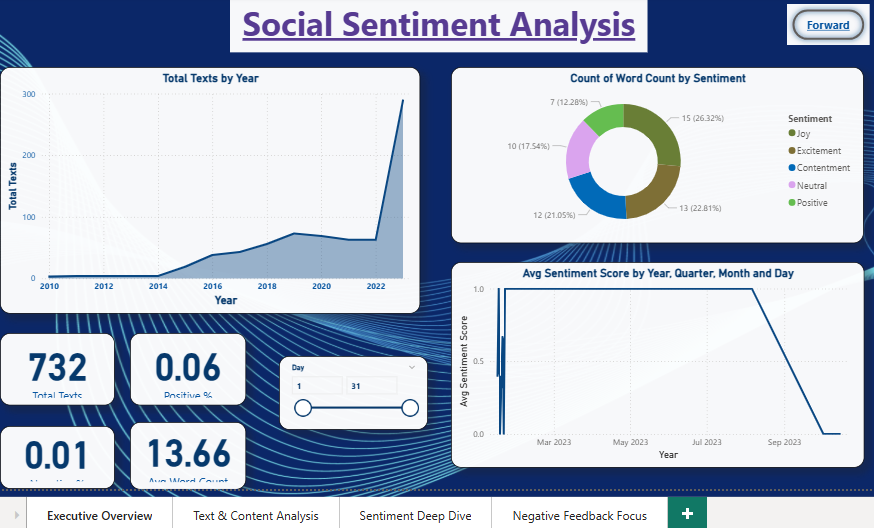

What the dashboard file says about the page in this screenshot:
{"tool":"powerbi","page":{"name":"Executive Overview","canvas":[1280,720],"ordinal":0},"visuals":[{"type":"textbox","box":[336,0,611.4,80.6],"z":0},{"type":"card","fields":{"Values":["cleaned_sentiment.Total Texts"]},"box":[0,475.6,178.5,115.6],"z":1000},{"type":"card","fields":{"Values":["cleaned_sentiment.Positive %"]},"box":[190.2,475.6,172.7,115.6],"z":2000},{"type":"card","fields":{"Values":["cleaned_sentiment.Negative %"]},"box":[0,597.1,178.5,122.9],"z":3000},{"type":"card","fields":{"Values":["cleaned_sentiment.Avg Word Count"]},"box":[190.2,598.5,172.7,121.5],"z":4000},{"type":"donutChart","fields":{"Category":["cleaned_sentiment.Sentiment"],"Y":["Count(cleaned_sentiment.Word Count)"]},"box":[660,102.4,604.4,257.6],"z":5000},{"type":"lineChart","fields":{"Y":["cleaned_sentiment.Avg Sentiment Score"],"Category":["cleaned_sentiment.Timestamp.Variation.Date Hierarchy.Year","cleaned_sentiment.Timestamp.Variation.Date Hierarchy.Quarter","cleaned_sentiment.Timestamp.Variation.Date Hierarchy.Month","cleaned_sentiment.Timestamp.Variation.Date Hierarchy.Day"]},"box":[660.2,388,604.7,300.7],"z":6000},{"type":"areaChart","fields":{"Category":["cleaned_sentiment.Timestamp.Variation.Date Hierarchy.Year","cleaned_sentiment.Timestamp.Variation.Date Hierarchy.Month","cleaned_sentiment.Timestamp.Variation.Date Hierarchy.Day"],"Y":["cleaned_sentiment.Total Texts"]},"box":[0,102.4,614.6,361.5],"z":7000},{"type":"slicer","fields":{"Values":["cleaned_sentiment.Day"]},"box":[408.2,525.8,218.4,107.5],"z":8000},{"type":"actionButton","box":[1152.3,10.1,120.9,60.5],"z":9000}]}

Visuals, with their boxes on the page's 1280x720 design canvas (x1, y1, x2, y2). These are canvas units, not pixel positions in the 874x528 screenshot, which may show the page scaled, cropped or inside an application window:
textbox: detection(336, 0, 947, 81)
card - cleaned_sentiment.Total Texts: detection(0, 476, 178, 591)
card - cleaned_sentiment.Positive %: detection(190, 476, 363, 591)
card - cleaned_sentiment.Negative %: detection(0, 597, 178, 720)
card - cleaned_sentiment.Avg Word Count: detection(190, 598, 363, 720)
donutChart - cleaned_sentiment.Sentiment x Count(cleaned_sentiment.Word Count): detection(660, 102, 1264, 360)
lineChart - cleaned_sentiment.Avg Sentiment Score x cleaned_sentiment.Timestamp.Variation.Date Hierarchy.Year: detection(660, 388, 1265, 689)
areaChart - cleaned_sentiment.Timestamp.Variation.Date Hierarchy.Year x cleaned_sentiment.Timestamp.Variation.Date Hierarchy.Month: detection(0, 102, 615, 464)
slicer - cleaned_sentiment.Day: detection(408, 526, 627, 633)
actionButton: detection(1152, 10, 1273, 71)
